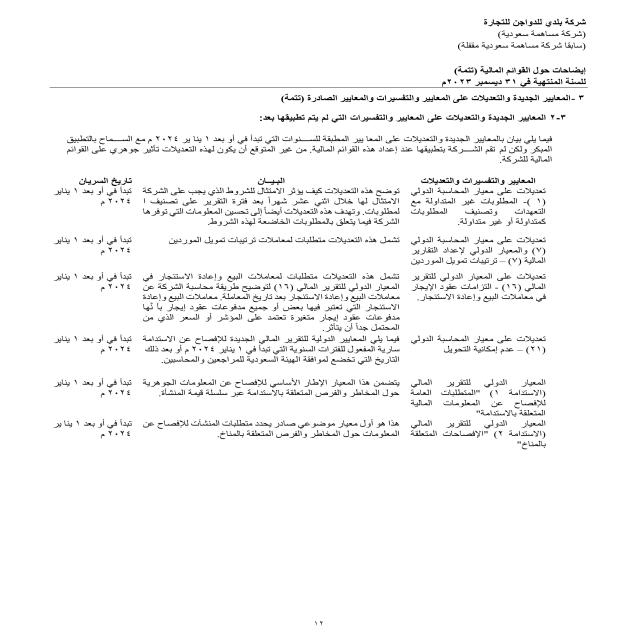notes: (453, 62, 591, 77)
table: (42, 169, 553, 461)
